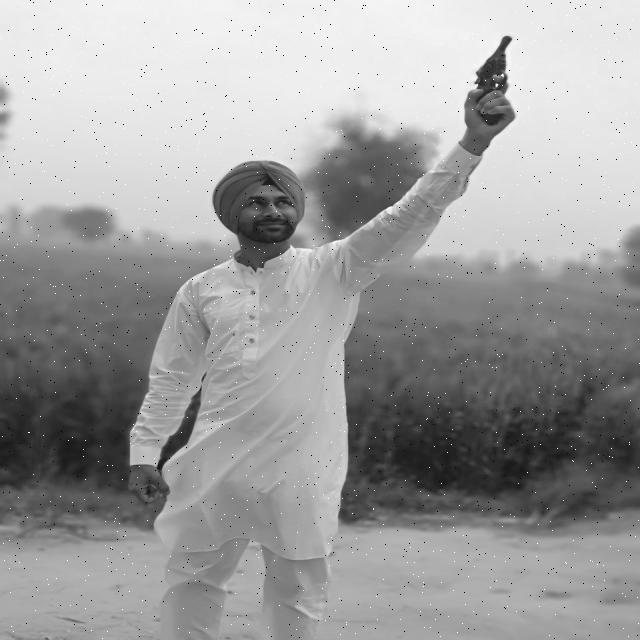gun: (464, 28, 523, 128)
